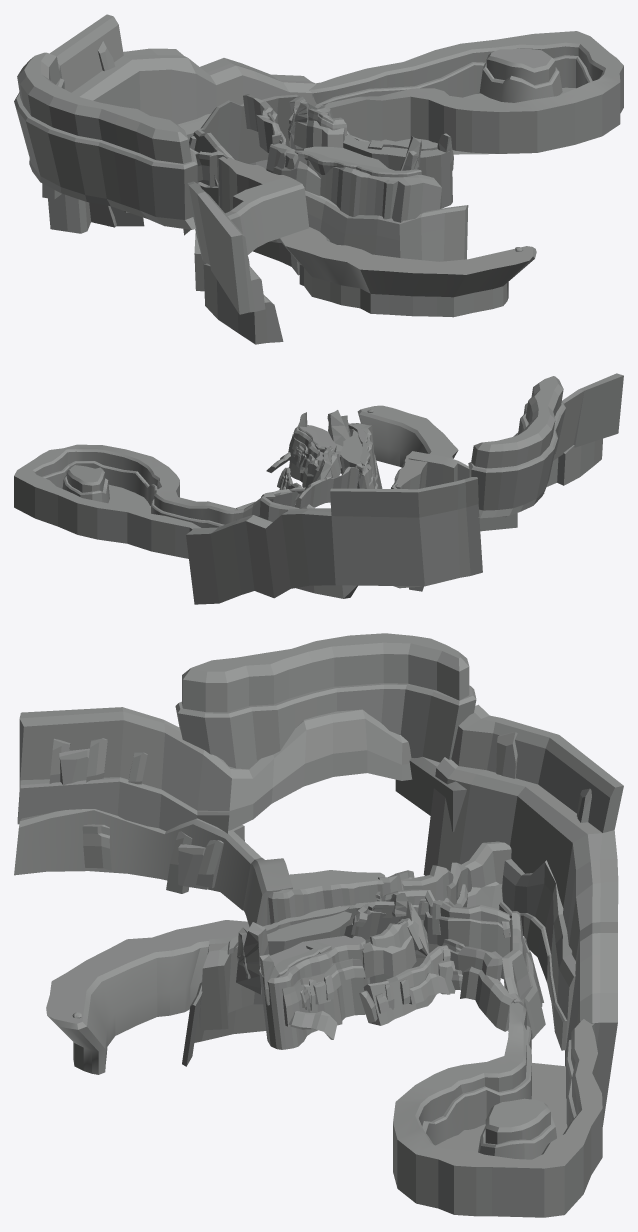
The model's file is Terrain Test 1.fbx.
3 renders of one model, top to bottom at view 1: azimuth 30°, elevation 25°; view 2: azimuth 150°, elevation 25°; view 3: azimuth 270°, elevation 25°, orthographic. The views are drawn at different scales.
Visible parts, largest first — view 1: polySurface15; view 2: polySurface15; view 3: polySurface15.
Boxes of the visible parts, x1,y1,x2,y2 form: polySurface15: (14, 14, 623, 344); polySurface15: (14, 373, 623, 604); polySurface15: (14, 633, 623, 1217).
Size of the model in its own units: 246 by 92.33 by 175.
